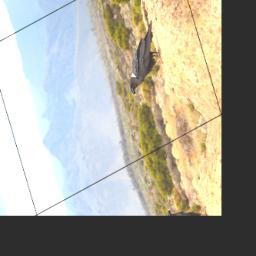Crow: (114, 18, 171, 99)
